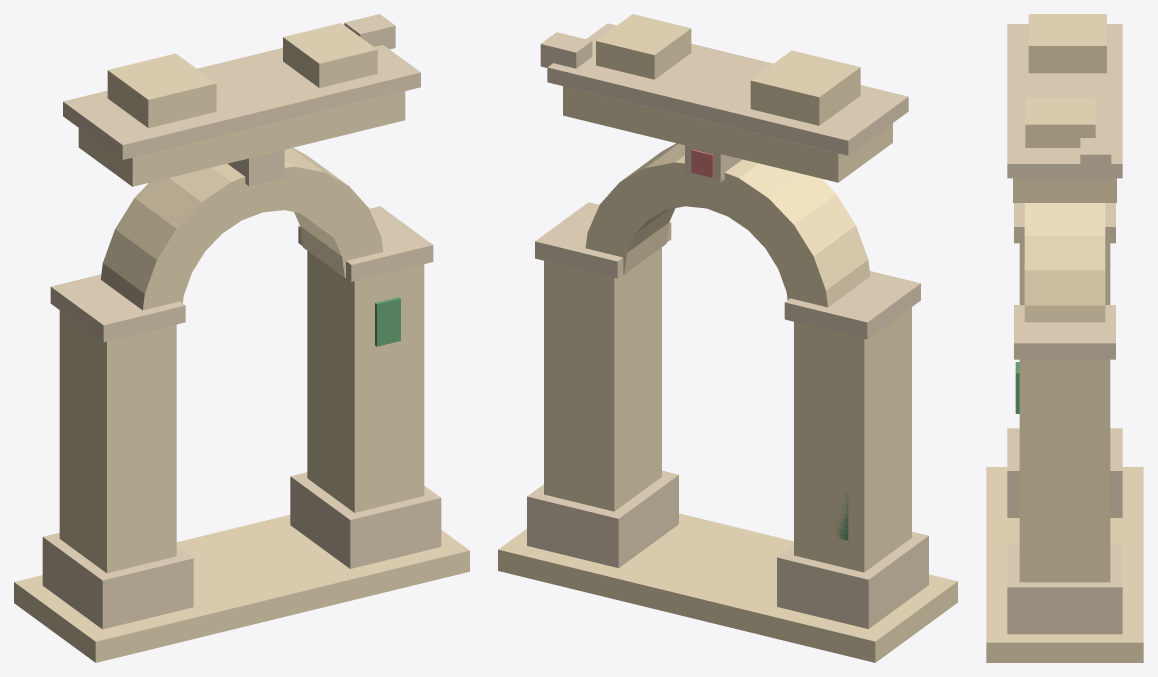
Rendered from ruin_arch.glb.
3 renders of one model, left to right at view 1: azimuth 30°, elevation 25°; view 2: azimuth 150°, elevation 25°; view 3: azimuth 270°, elevation 25°, orthographic. The views are drawn at different scales.
Visible parts, largest first — view 1: ruin_arch__Arch_Sand, ruin_arch__Arch_Stone, ruin_arch__Arch_Moss; view 2: ruin_arch__Arch_Sand, ruin_arch__Arch_Stone; view 3: ruin_arch__Arch_Sand, ruin_arch__Arch_Stone, ruin_arch__Arch_Moss.
Part boxes in pixels (bbox=[...]): ruin_arch__Arch_Sand: bbox=[14, 23, 469, 662]; ruin_arch__Arch_Stone: bbox=[42, 14, 441, 629]; ruin_arch__Arch_Moss: bbox=[375, 297, 400, 346]; ruin_arch__Arch_Sand: bbox=[498, 14, 957, 662]; ruin_arch__Arch_Stone: bbox=[527, 23, 928, 628]; ruin_arch__Arch_Sand: bbox=[986, 14, 1143, 662]; ruin_arch__Arch_Stone: bbox=[1007, 24, 1122, 634]; ruin_arch__Arch_Moss: bbox=[1015, 362, 1019, 413].
Size of the model in its own units: 7.4 by 9.99 by 2.8.
